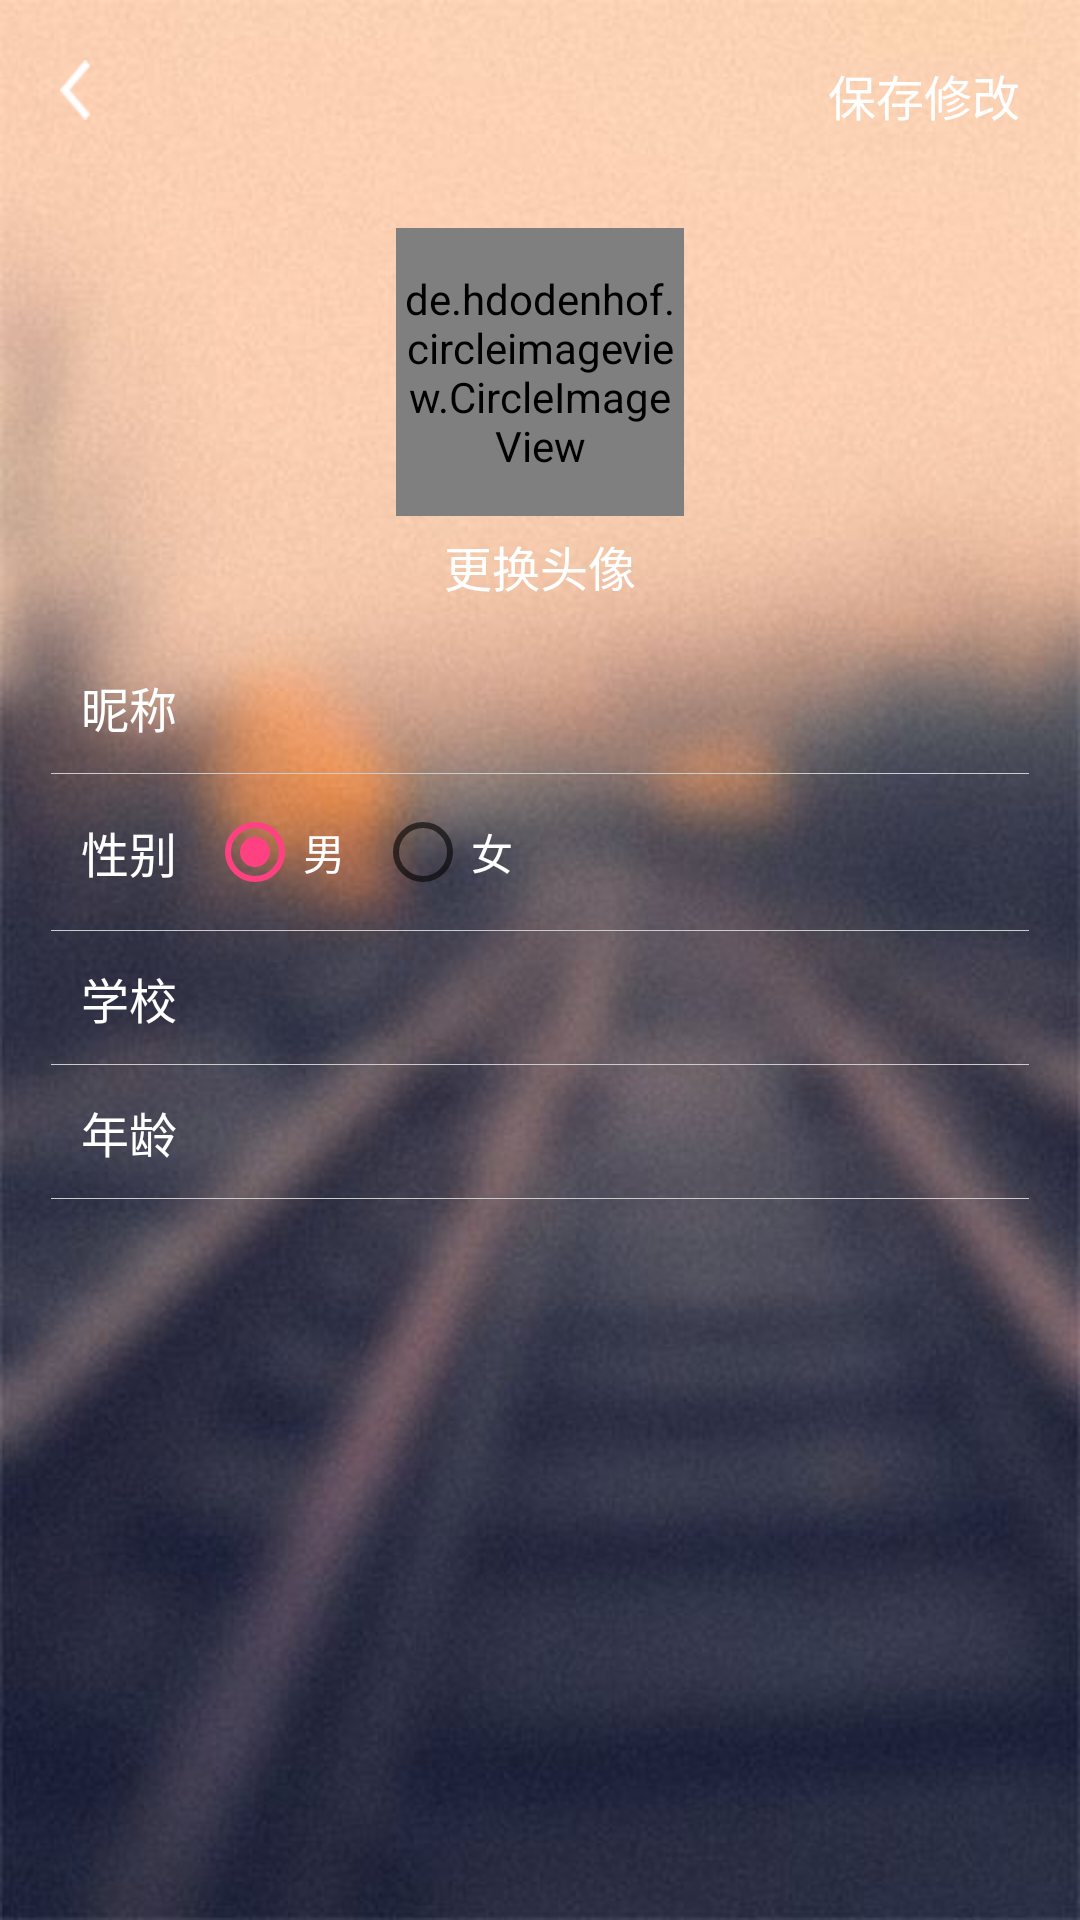

Icon bounding boxes for this 1080px×1920px phone screenshot, format (x1, y1, x2, y2):
back: (60, 60, 90, 120)
